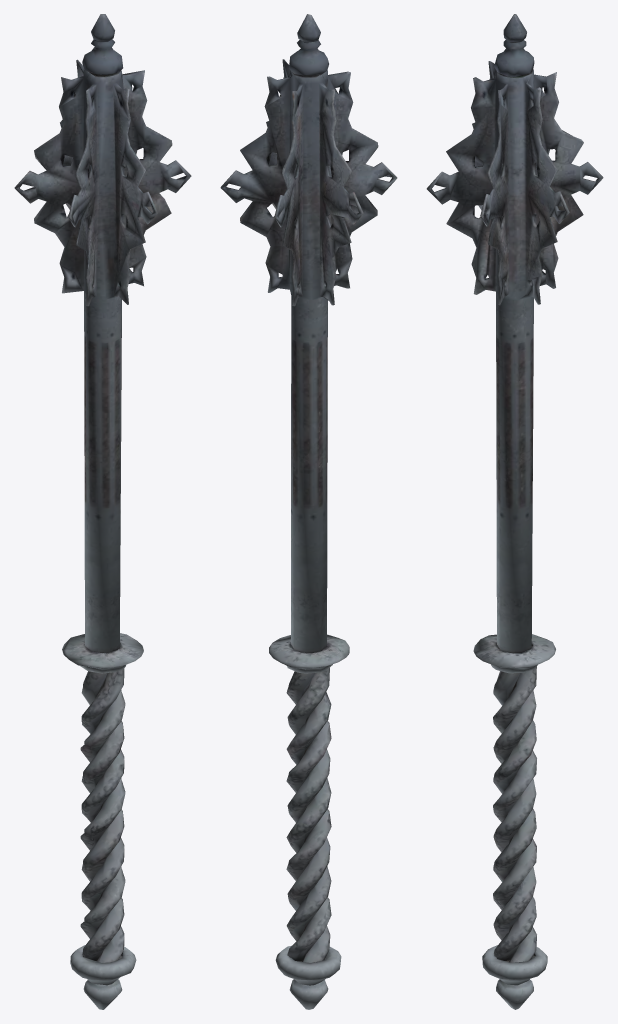
Rendered from ornate_medieval_mace.glb.
3 views of the same model, side by side, from view 1: azimuth 30°, elevation 25°; view 2: azimuth 150°, elevation 25°; view 3: azimuth 270°, elevation 25° (orthographic).
Parts seen in each view (by area): view 1: ornate_medieval_mace; view 2: ornate_medieval_mace; view 3: ornate_medieval_mace.
Part boxes in pixels (box(x1,y1,x2,y2)): ornate_medieval_mace: box(14, 14, 191, 1009); ornate_medieval_mace: box(220, 14, 397, 1009); ornate_medieval_mace: box(426, 14, 603, 1009).
Size of the model in its own units: 0.0949 by 0.6299 by 0.1016.
1 material, 1 textured.
